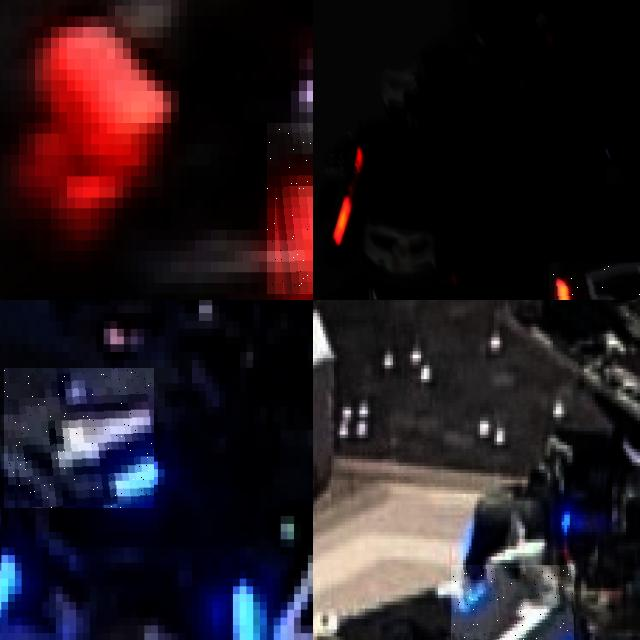B1: (450, 565, 574, 640)
B4: (5, 368, 154, 508), (205, 528, 313, 640), (0, 488, 31, 613)
R4: (267, 123, 313, 293)
Rs: (548, 262, 640, 300)
